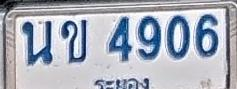0: (167, 15, 190, 59)
4: (107, 16, 132, 62)
6: (195, 13, 218, 57)
9: (137, 15, 161, 60)
A02: (60, 19, 88, 63)
A25: (22, 20, 52, 66)
RYG: (92, 75, 152, 89)
